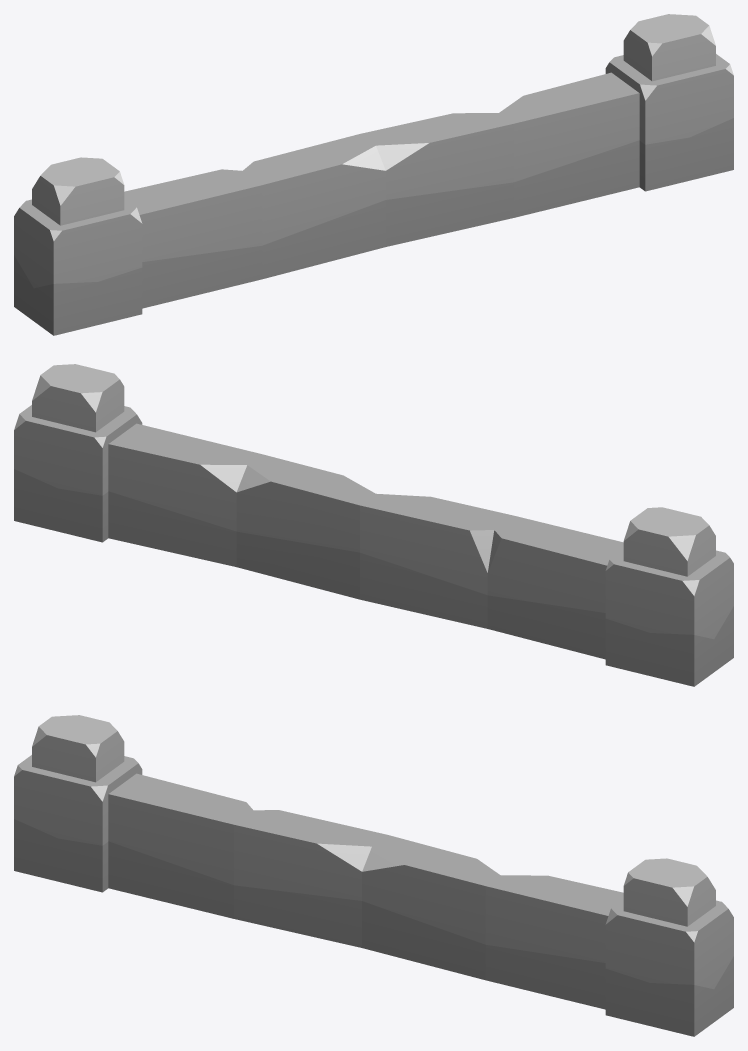
The model's file is stone-fence-medium.glb.
The picture shows the model from 3 angles, top to bottom: view 1: azimuth 30°, elevation 25°; view 2: azimuth 150°, elevation 25°; view 3: azimuth 330°, elevation 25°; orthographic projection.
Visible parts, largest first — view 1: stone fence medium; view 2: stone fence medium; view 3: stone fence medium.
Part boxes in pixels (x1,y1,x2,y2): stone fence medium: [14, 14, 733, 335]; stone fence medium: [14, 364, 733, 686]; stone fence medium: [14, 715, 733, 1036].
Bounding box in the file's own units: 9.5 × 1.85 × 0.9603.
Materials: 1 (1 with a texture image).
